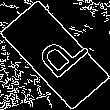P_SW: (22, 24, 88, 86)
